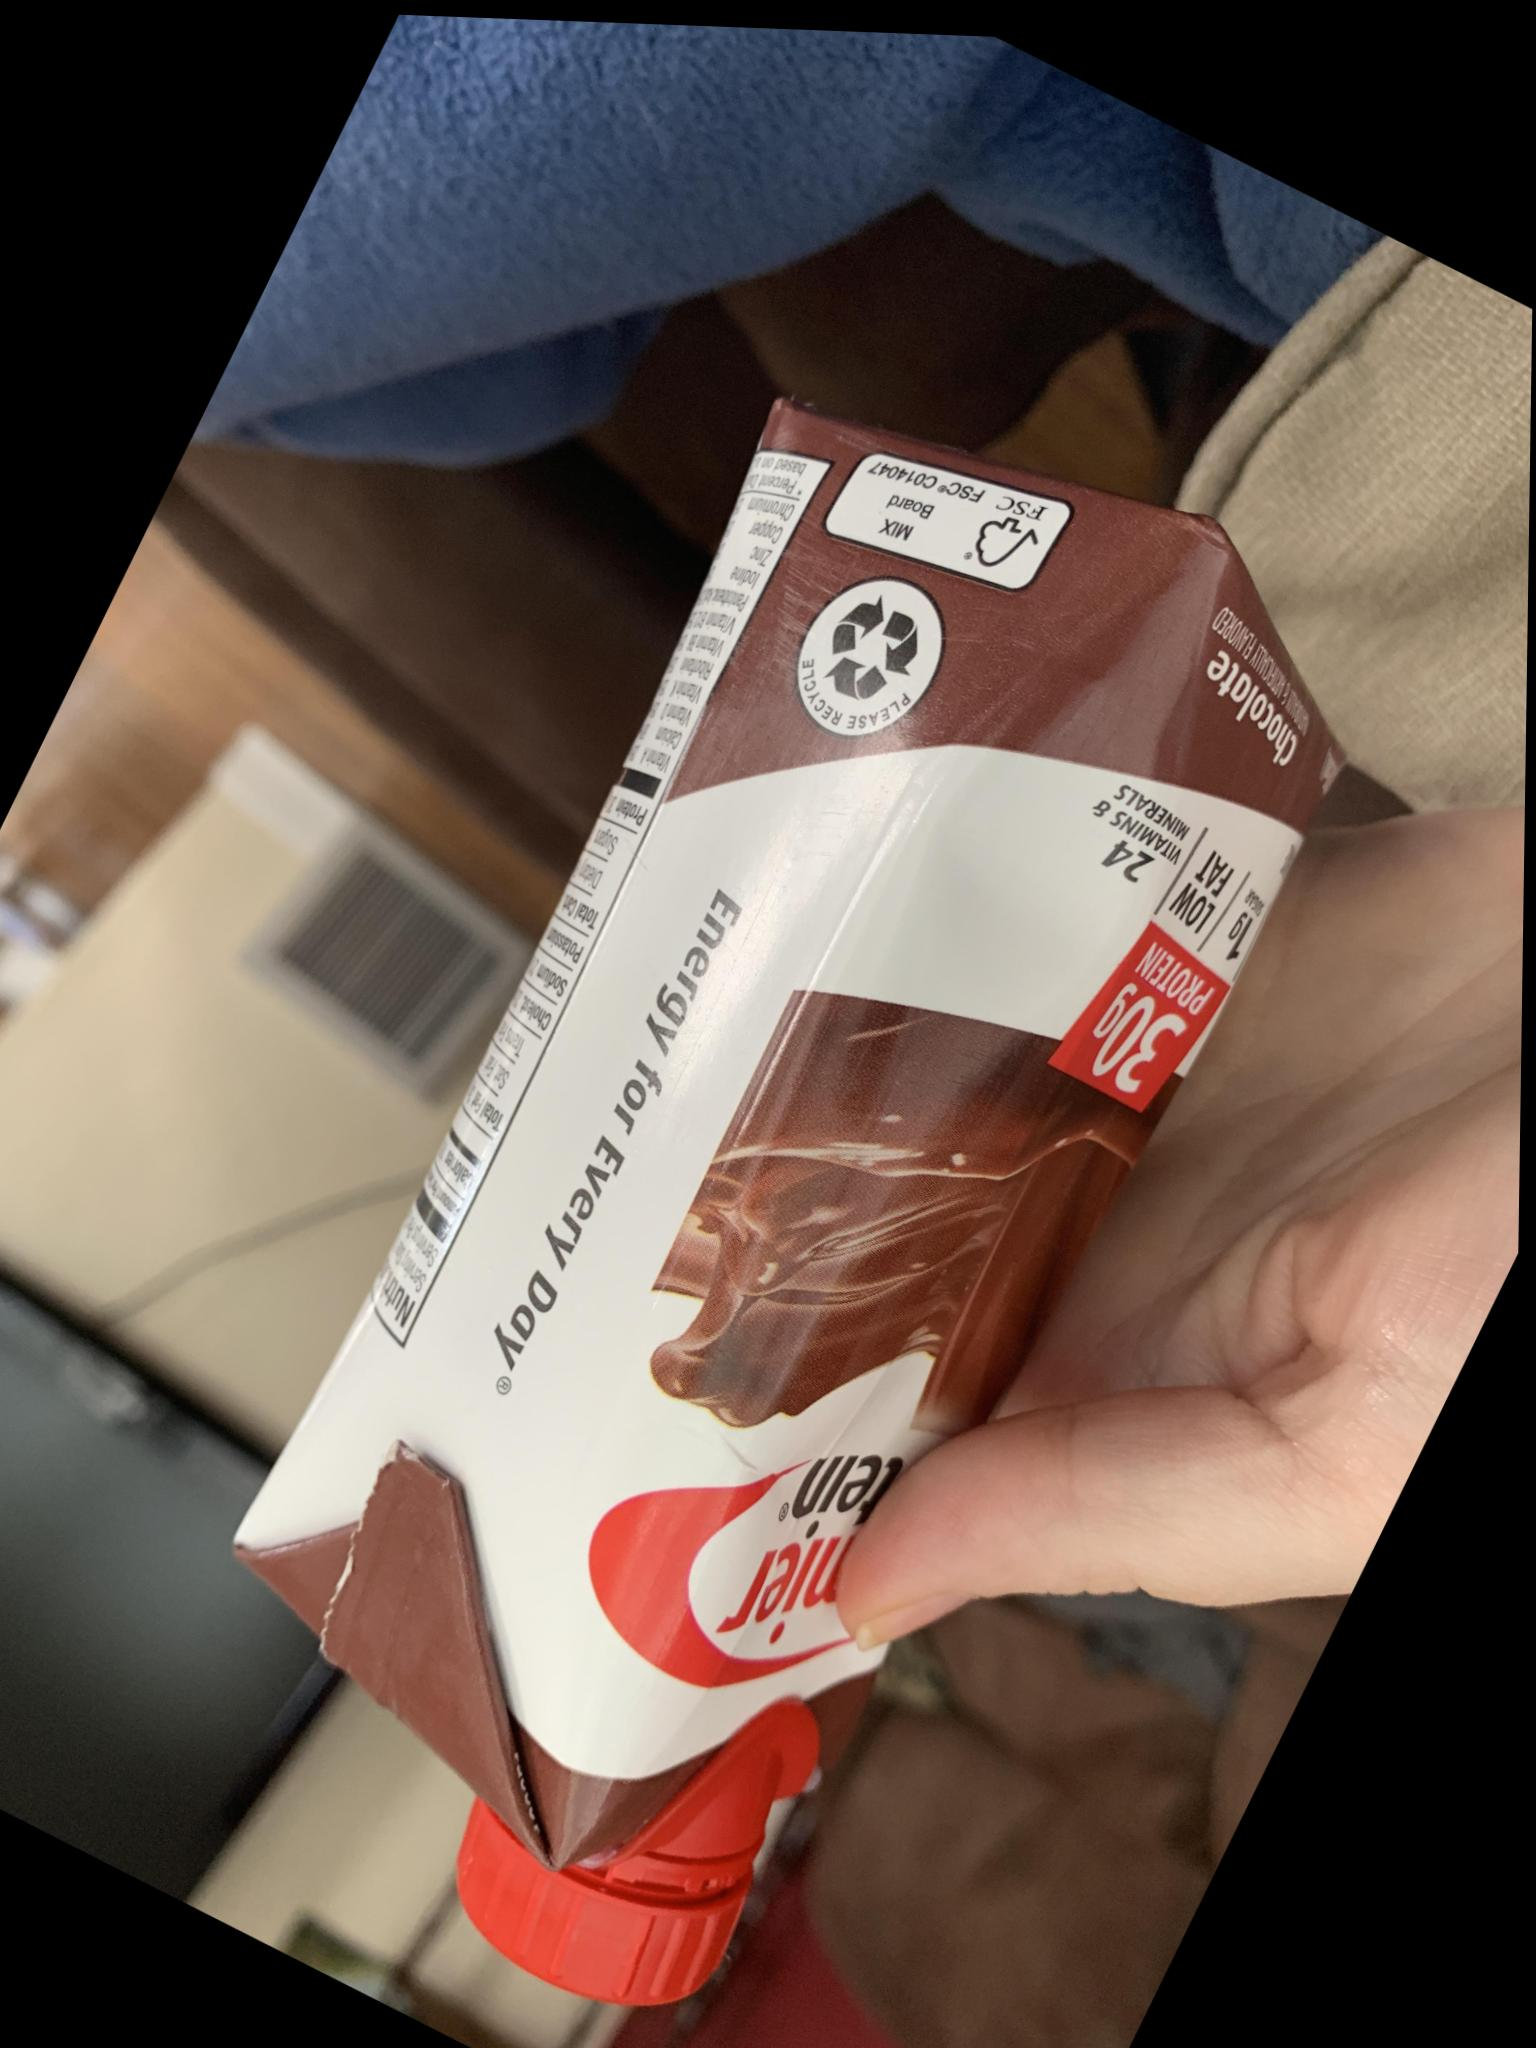cardboard: (89, 297, 1399, 2048)
